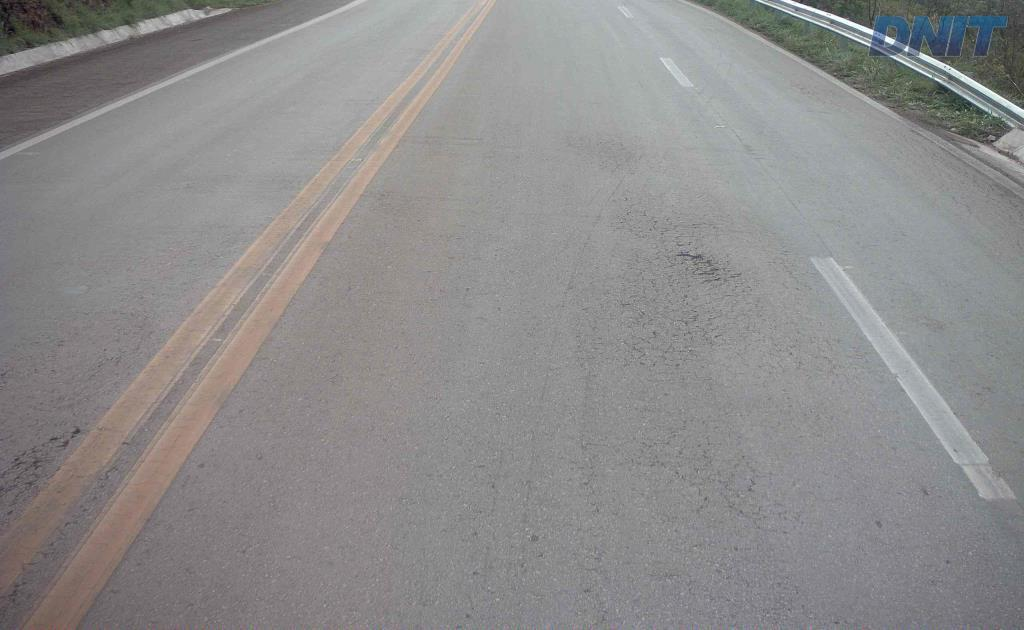crack: (663, 246, 742, 289), (650, 302, 699, 364), (616, 285, 667, 339)
